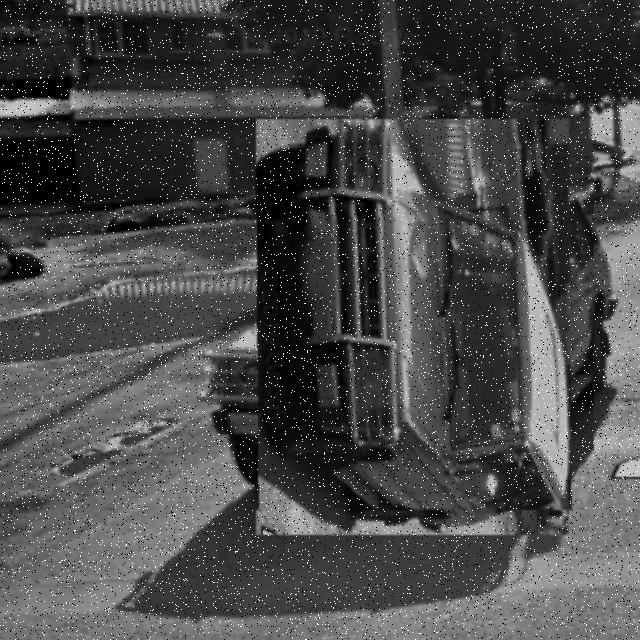car: (231, 145, 595, 511)
